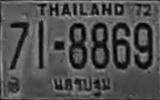1: (38, 20, 44, 68)
6: (111, 21, 129, 68)
7: (8, 21, 28, 69)
8: (68, 22, 86, 68), (90, 22, 108, 68)
9: (133, 22, 152, 68)
NPT: (49, 73, 113, 98)
